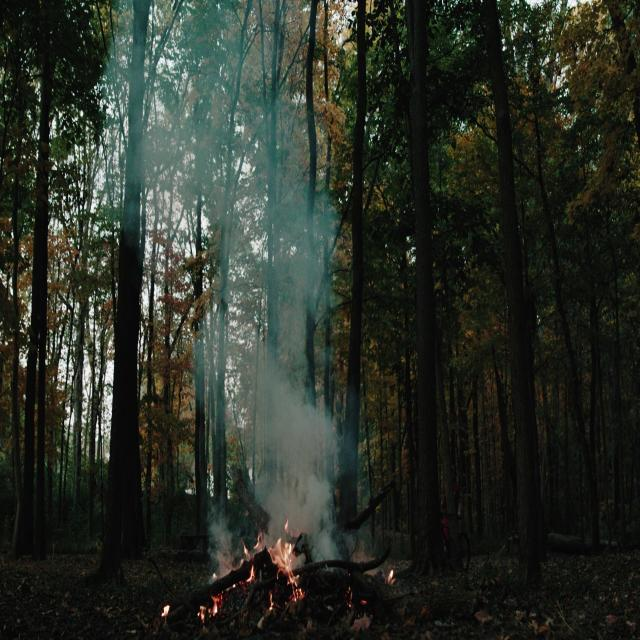Fire: (264, 524, 307, 614), (197, 576, 227, 628)
Smoke: (120, 3, 356, 562)
